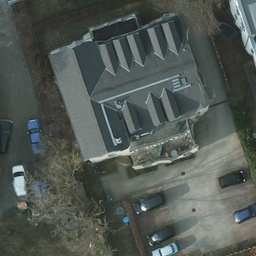car: (26, 122, 44, 162), (133, 196, 165, 212), (12, 164, 29, 194), (218, 171, 246, 186), (148, 231, 176, 246), (227, 205, 255, 220), (1, 121, 10, 155)
